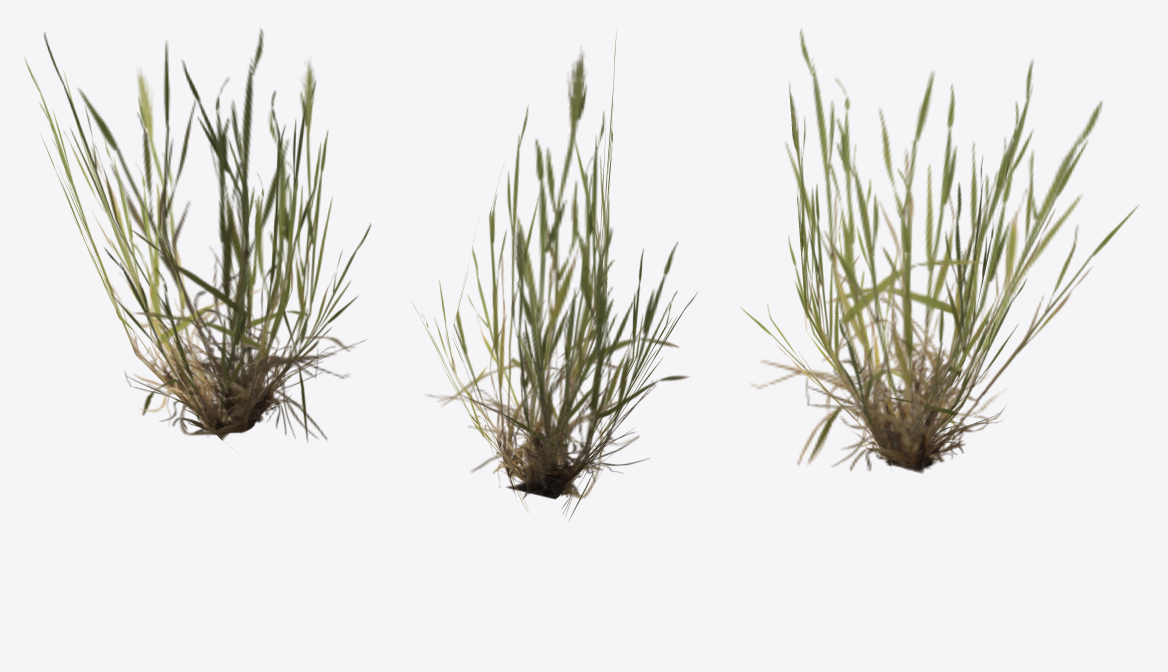
File: grass_tuft.glb
3 views of the same model, side by side, from view 1: azimuth 30°, elevation 25°; view 2: azimuth 150°, elevation 25°; view 3: azimuth 270°, elevation 25° (orthographic). The views are drawn at different scales.
Visible parts, largest first — view 1: grass_tuft; view 2: grass_tuft; view 3: grass_tuft.
Boxes of the visible parts, box(x1,y1,x2,y2) form: grass_tuft: box(24, 29, 370, 448); grass_tuft: box(411, 32, 697, 521); grass_tuft: box(740, 29, 1139, 473).
Size of the model in its own units: 0.3915 by 0.7894 by 0.4761.
1 material, 1 textured.
